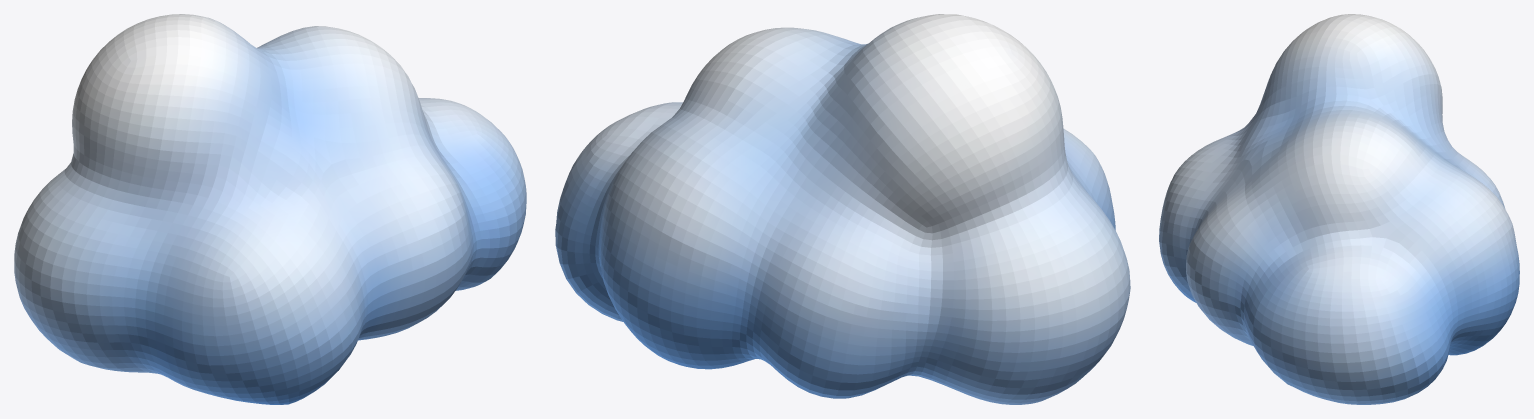
File: cloud.glb
3 renders of one model, left to right at view 1: azimuth 30°, elevation 25°; view 2: azimuth 150°, elevation 25°; view 3: azimuth 270°, elevation 25°, orthographic. The views are drawn at different scales.
Parts seen in each view (by area): view 1: KUMO; view 2: KUMO; view 3: KUMO.
Boxes of the visible parts, x1=… form: KUMO: x1=14, y1=14, x2=526, y2=404; KUMO: x1=555, y1=14, x2=1130, y2=404; KUMO: x1=1159, y1=14, x2=1519, y2=404.
Size of the model in its own units: 5.06 by 3.44 by 3.83.
1 material, 1 textured.
